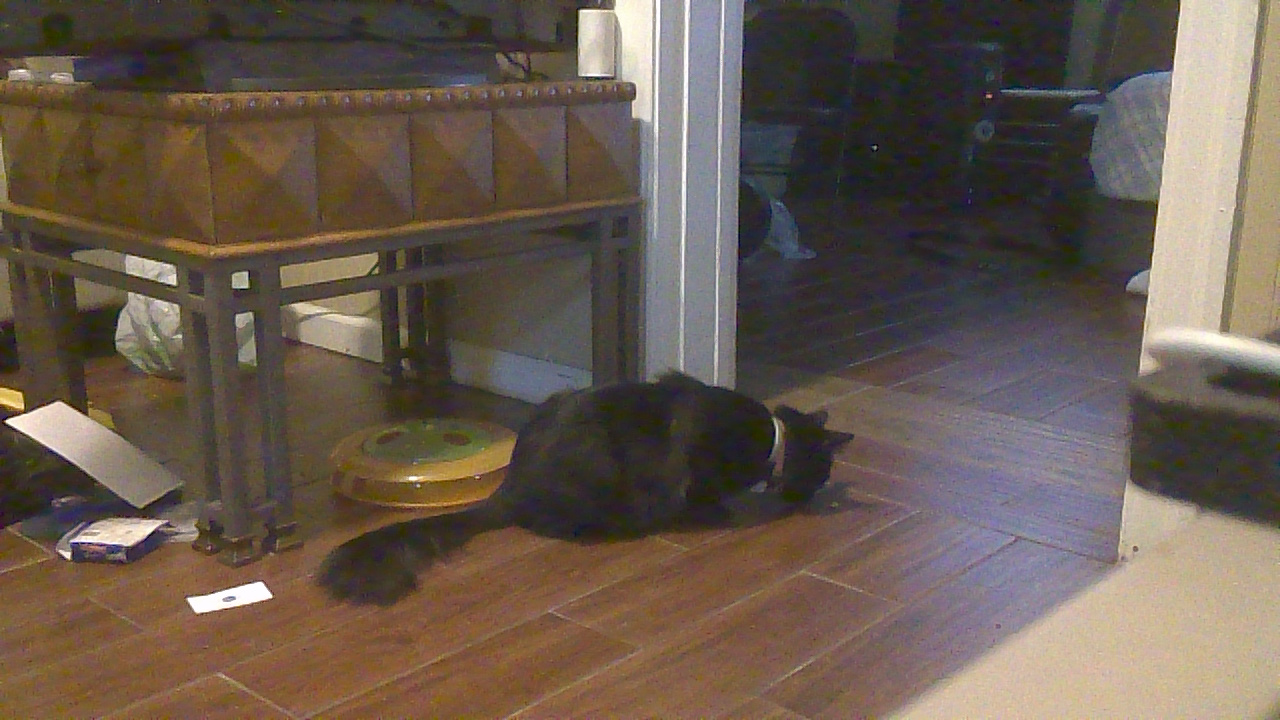cat: (315, 366, 857, 605)
